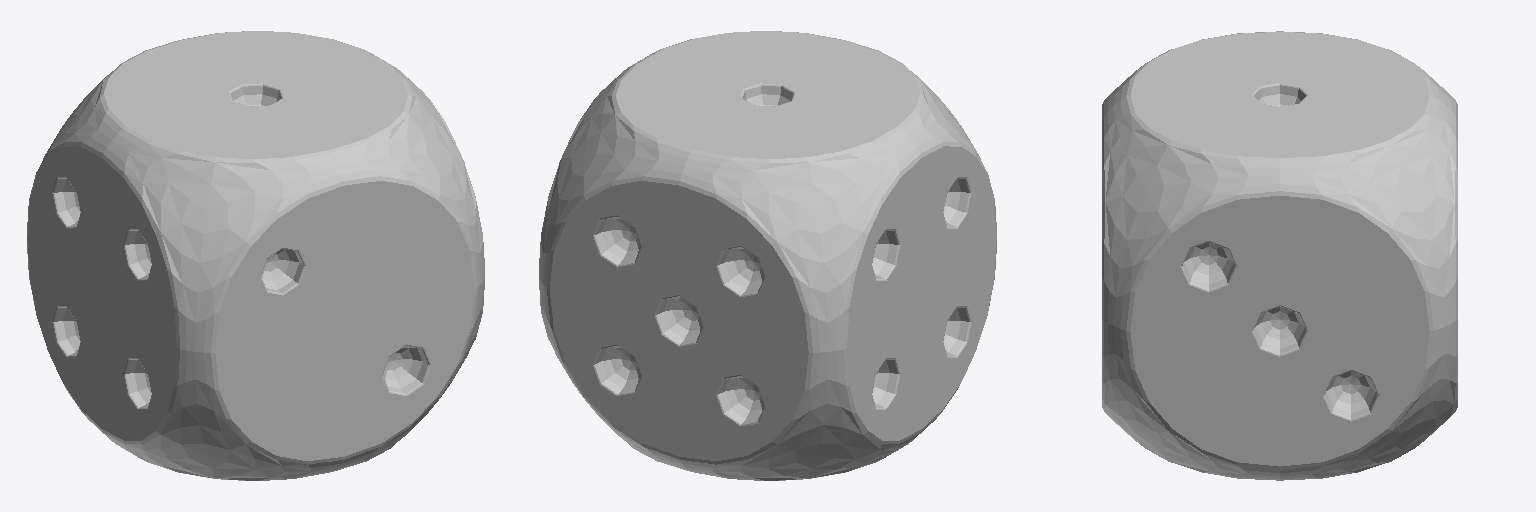
Rendered from red-dice.9c47b019.obj.
3 renders of one model, left to right at view 1: azimuth 30°, elevation 25°; view 2: azimuth 150°, elevation 25°; view 3: azimuth 270°, elevation 25°, orthographic.
Visible parts, largest first — view 1: g_Dice_Roundcube.001; view 2: g_Dice_Roundcube.001; view 3: g_Dice_Roundcube.001.
Part boxes in pixels (x1,y1,x2,y2): g_Dice_Roundcube.001: (27,31,484,480); g_Dice_Roundcube.001: (539,31,996,480); g_Dice_Roundcube.001: (1102,31,1457,480).
Size of the model in its own units: 2.54 by 2.54 by 2.54.